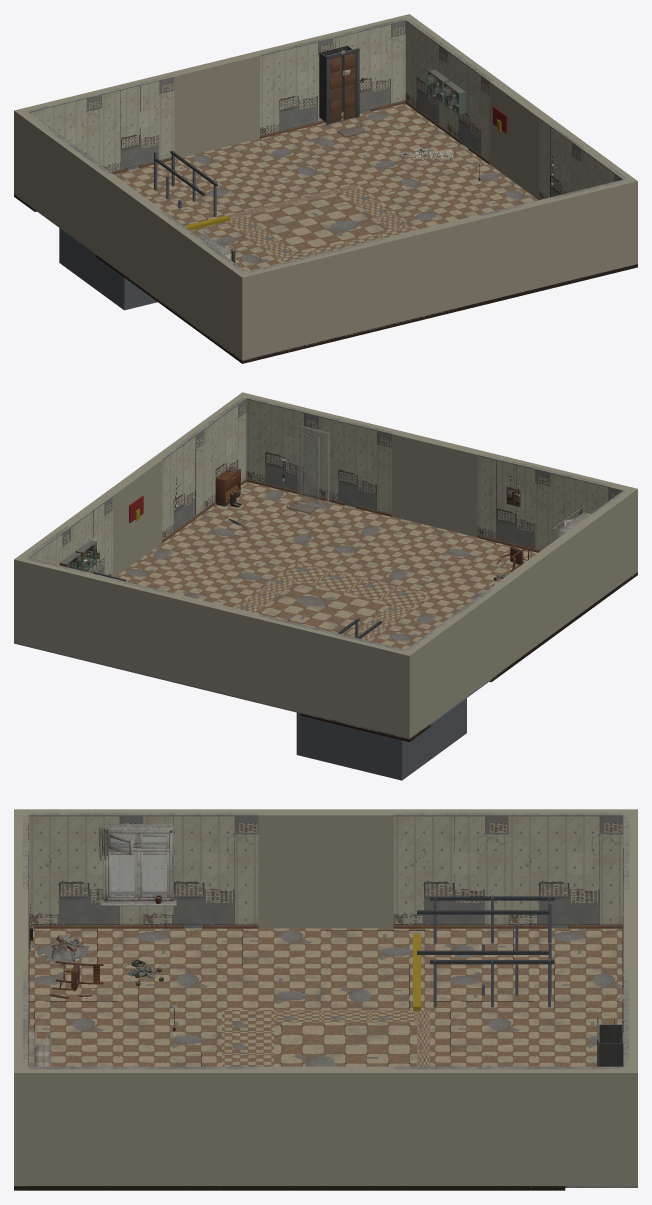
The model's file is room_stairwell_down_decorated.glb.
The picture shows the model from 3 angles, top to bottom: view 1: azimuth 30°, elevation 25°; view 2: azimuth 150°, elevation 25°; view 3: azimuth 270°, elevation 25°; orthographic projection. The views are drawn at different scales.
Parts seen in each view (by area): view 1: Wall_S_A, Wall_S_B, Wall_W_B, Wall_W_A, Plug_S, Plug_N, NoCol_Wallpaper_N1, NoCol_Wallpaper_N2, NoCol_DebrisTile_Hole, NoCol_Wallpaper_N3, Plug_W, Plug_E (+35 smaller); view 2: Wall_N_A, Wall_N_B, Wall_W_A, Wall_W_B, Plug_N, Plug_S, NoCol_Wallpaper_S2, NoCol_Wallpaper_S3, NoCol_Wallpaper_S1, WellWall_N, NoCol_DebrisTile_Hole, Plug_W (+38 smaller); view 3: Wall_E_B, Wall_E_A, Plug_W, Plug_E, NoCol_Wallpaper_W3, NoCol_Wallpaper_W2, NoCol_Wallpaper_W1, NoCol_Wallpaper_W0, NoCol_DebrisTile_Hole, NoCol_Window, NoCol_FloorTile_12, NoCol_FloorTile_24 (+46 smaller).
Part boxes in pixels (bbox=[...]): Wall_S_A: bbox=[237, 236, 397, 360]; Wall_S_B: bbox=[478, 177, 637, 301]; Wall_W_B: bbox=[19, 112, 108, 258]; Wall_W_A: bbox=[153, 210, 245, 355]; Plug_S: bbox=[397, 229, 482, 322]; Plug_N: bbox=[174, 66, 259, 158]; NoCol_Wallpaper_N1: bbox=[100, 75, 174, 171]; NoCol_Wallpaper_N2: bbox=[258, 36, 332, 135]; NoCol_DebrisTile_Hole: bbox=[245, 192, 391, 253]; NoCol_Wallpaper_N3: bbox=[331, 18, 405, 115]; Plug_W: bbox=[103, 186, 152, 294]; Plug_E: bbox=[489, 92, 539, 199]; Wall_N_A: bbox=[254, 615, 414, 738]; Wall_N_B: bbox=[14, 555, 173, 679]; Wall_W_A: bbox=[540, 491, 632, 636]; Wall_W_B: bbox=[407, 589, 498, 734]; Plug_N: bbox=[169, 607, 254, 700]; Plug_S: bbox=[392, 444, 477, 537]; NoCol_Wallpaper_S2: bbox=[319, 414, 393, 513]; NoCol_Wallpaper_S3: bbox=[246, 397, 320, 495]; NoCol_Wallpaper_S1: bbox=[477, 453, 551, 550]; WellWall_N: bbox=[296, 712, 404, 780]; NoCol_DebrisTile_Hole: bbox=[254, 581, 391, 635]; Plug_W: bbox=[499, 565, 548, 672]; Wall_E_B: bbox=[393, 1067, 623, 1185]; Wall_E_A: bbox=[28, 1068, 258, 1185]; Plug_W: bbox=[258, 829, 393, 928]; Plug_E: bbox=[258, 1087, 393, 1185]; NoCol_Wallpaper_W3: bbox=[508, 813, 623, 928]; NoCol_Wallpaper_W2: bbox=[393, 813, 508, 924]; NoCol_Wallpaper_W1: bbox=[143, 813, 258, 928]; NoCol_Wallpaper_W0: bbox=[28, 813, 143, 924]; NoCol_DebrisTile_Hole: bbox=[274, 1022, 416, 1066]; NoCol_Window: bbox=[96, 824, 181, 905]; NoCol_FloorTile_12: bbox=[222, 966, 325, 1009]; NoCol_FloorTile_24: bbox=[430, 1010, 533, 1053].
Bounding box in the file's own units: 12 × 4.21 × 12.
Materials: 30 (17 with a texture image).
